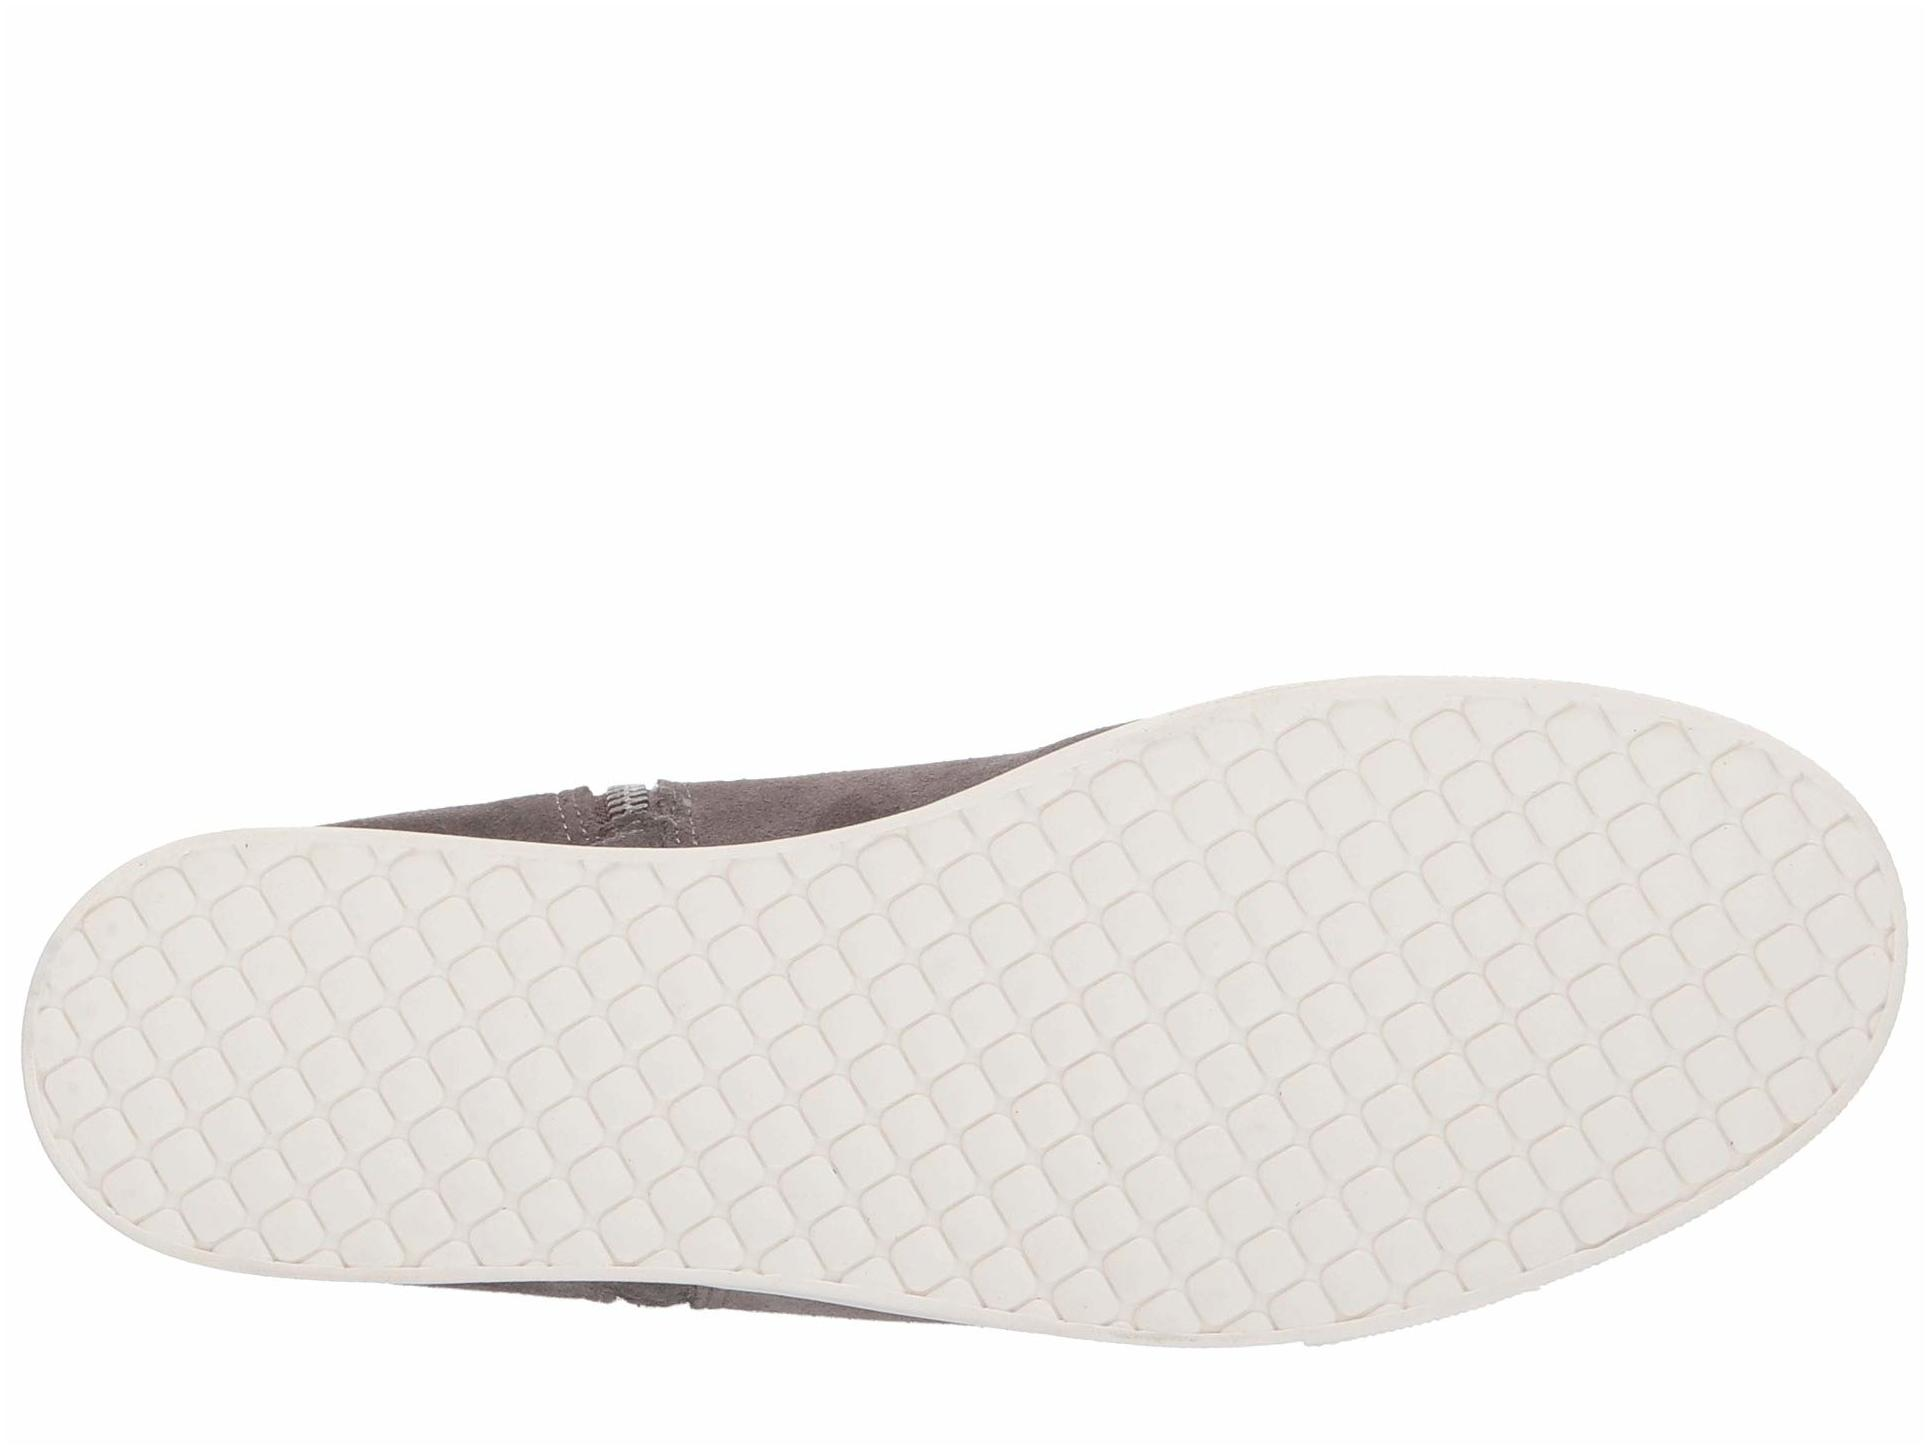quad: (1022, 841, 1436, 1225)
